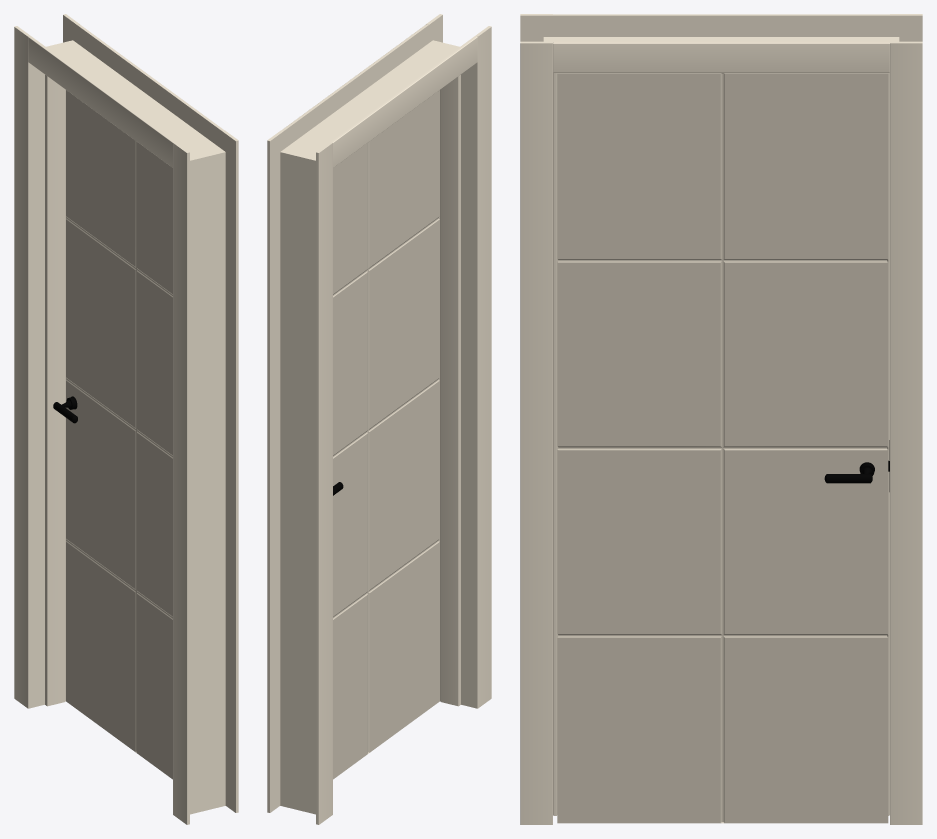
The model's file is Door RODOS.FBX.
The picture shows the model from 3 angles, left to right: view 1: azimuth 30°, elevation 25°; view 2: azimuth 150°, elevation 25°; view 3: azimuth 270°, elevation 25°; orthographic projection. The views are drawn at different scales.
Visible parts, largest first — view 1: door, korob001, trim003, trim004, panel001; view 2: door, korob001, trim003, trim004, panel001; view 3: door, trim004, trim003, panel001, korob001.
Boxes of the visible parts, x1,y1,x2,y2 form: door: (66,90,172,779); korob001: (31,40,225,814); trim003: (14,26,189,824); trim004: (63,14,238,812); panel001: (65,89,65,701); door: (333,90,439,779); korob001: (280,40,474,814); trim003: (316,26,491,824); trim004: (267,14,442,812); panel001: (440,89,440,701); door: (557,73,888,823); trim004: (520,41,922,824); trim003: (520,14,922,41); panel001: (553,73,889,815); korob001: (543,37,899,815).
Size of the model in its own units: 221 by 2085 by 972.
